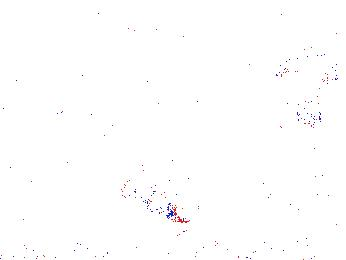flame jellyfish: (273, 49, 340, 128), (274, 173, 346, 226), (119, 168, 187, 223)
